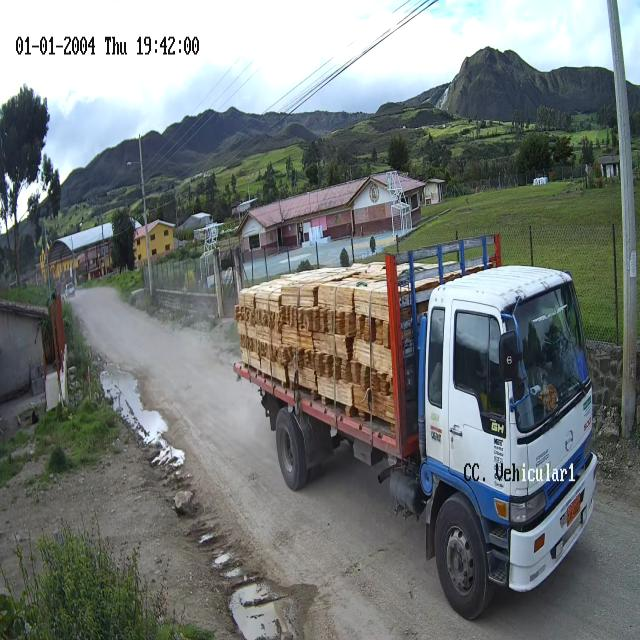TRUCK: (234, 236, 598, 622)
